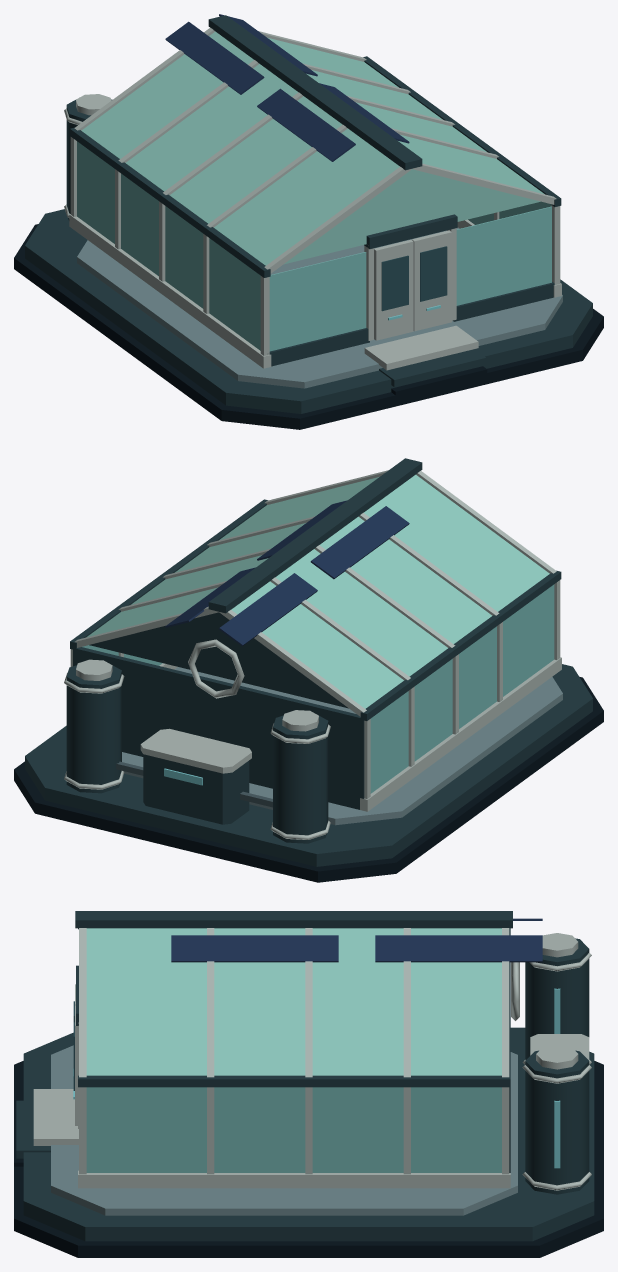
File: ver01_greenhouse_d0_lod2.glb
3 renders of one model, top to bottom at view 1: azimuth 30°, elevation 25°; view 2: azimuth 150°, elevation 25°; view 3: azimuth 270°, elevation 25°, orthographic. The views are drawn at different scales.
Parts seen in each view (by area): view 1: DISTANCE_GEOMETRY; view 2: DISTANCE_GEOMETRY; view 3: DISTANCE_GEOMETRY.
Part boxes in pixels (box(x1,y1,x2,y2)): DISTANCE_GEOMETRY: box(14, 14, 603, 429); DISTANCE_GEOMETRY: box(14, 458, 603, 882); DISTANCE_GEOMETRY: box(14, 911, 603, 1257).
Bounding box in the file's own units: 10 × 5.35 × 12.
